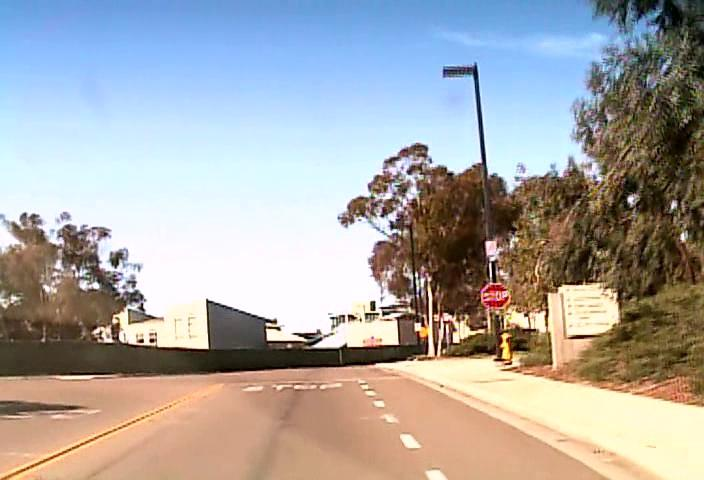stop: (480, 282, 510, 309)
